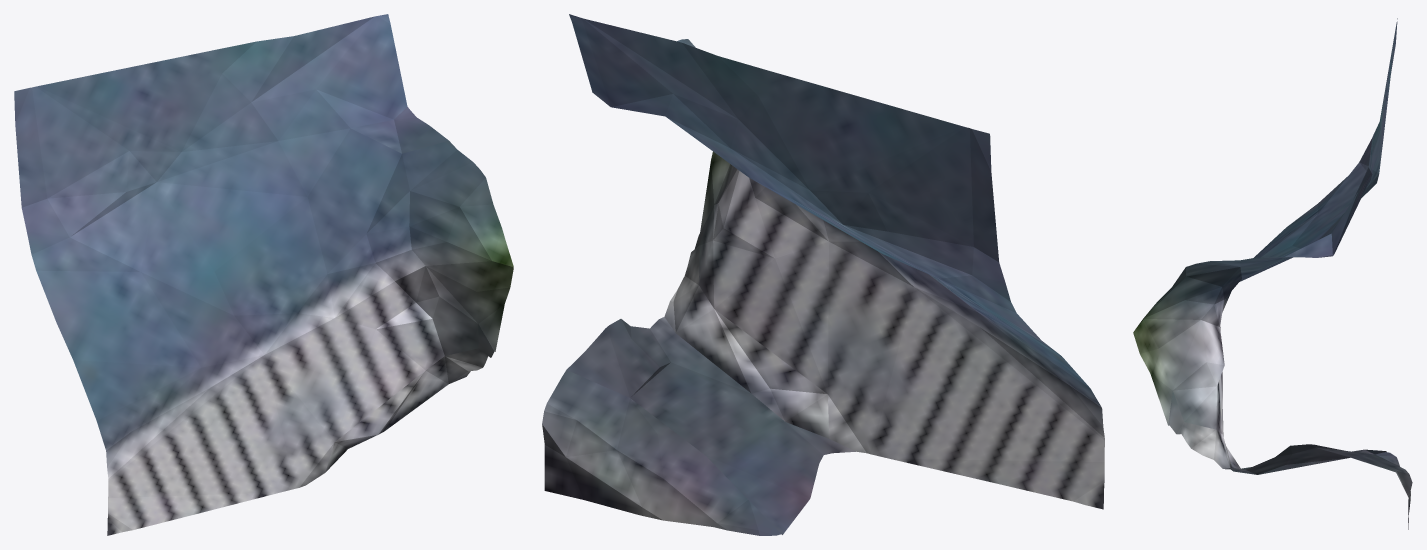
The model's file is Tile_+001_+006_L24_0031030.obj.
3 views of the same model, side by side, from view 1: azimuth 30°, elevation 25°; view 2: azimuth 150°, elevation 25°; view 3: azimuth 270°, elevation 25° (orthographic). The views are drawn at different scales.
Bounding box in the file's own units: 0.9531 × 0.9531 × 0.6774.
Materials: 1 (1 with a texture image).
